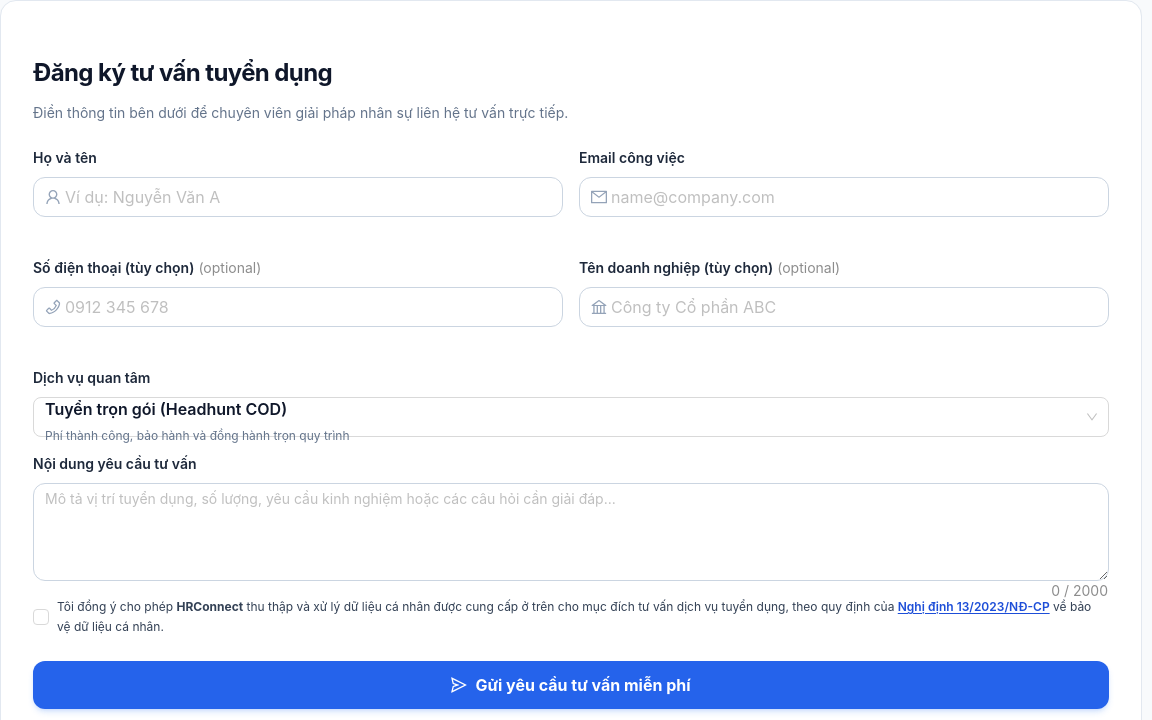
Scenario: ContactConsultationForm › submits form successfully and displays receipt when valid
The image size is (1152, 720).
# Fill form
Type "Nguyễn Văn A" into the field with placeholder "Ví dụ: Nguyễn Văn A" at (308, 197), box [65, 185, 551, 209]
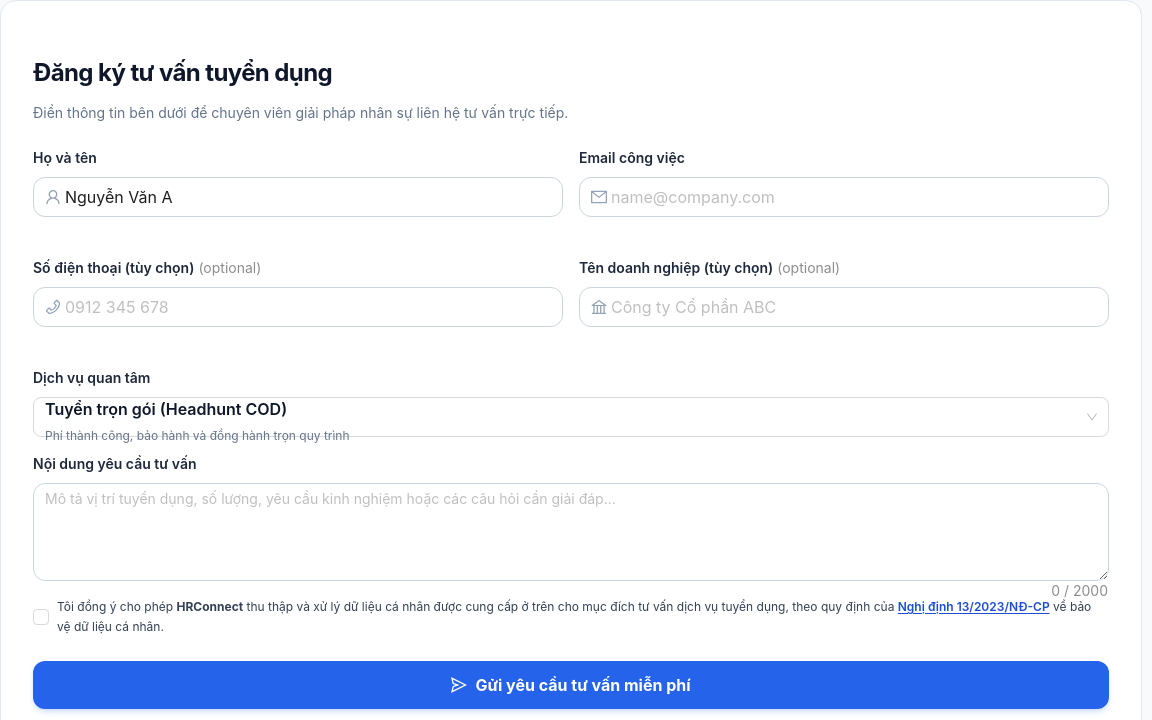
Type "vana@example.com" into the field with placeholder "name@company.com" at (854, 197), box [611, 185, 1097, 209]
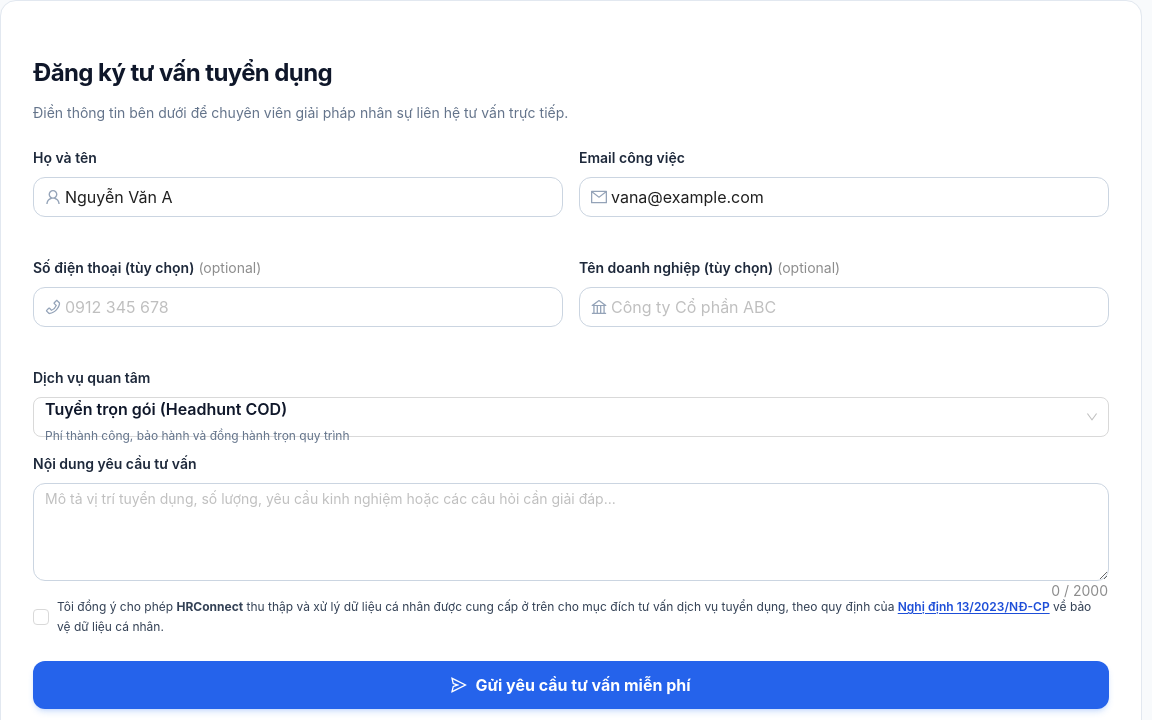
Replace the text in the text box with placeholder "Mô tả vị trí tuyển dụng" with "Cần tư vấn tuyển dụng 3 Senior React Dev trọn gói." at (571, 532), box [34, 484, 1108, 580]
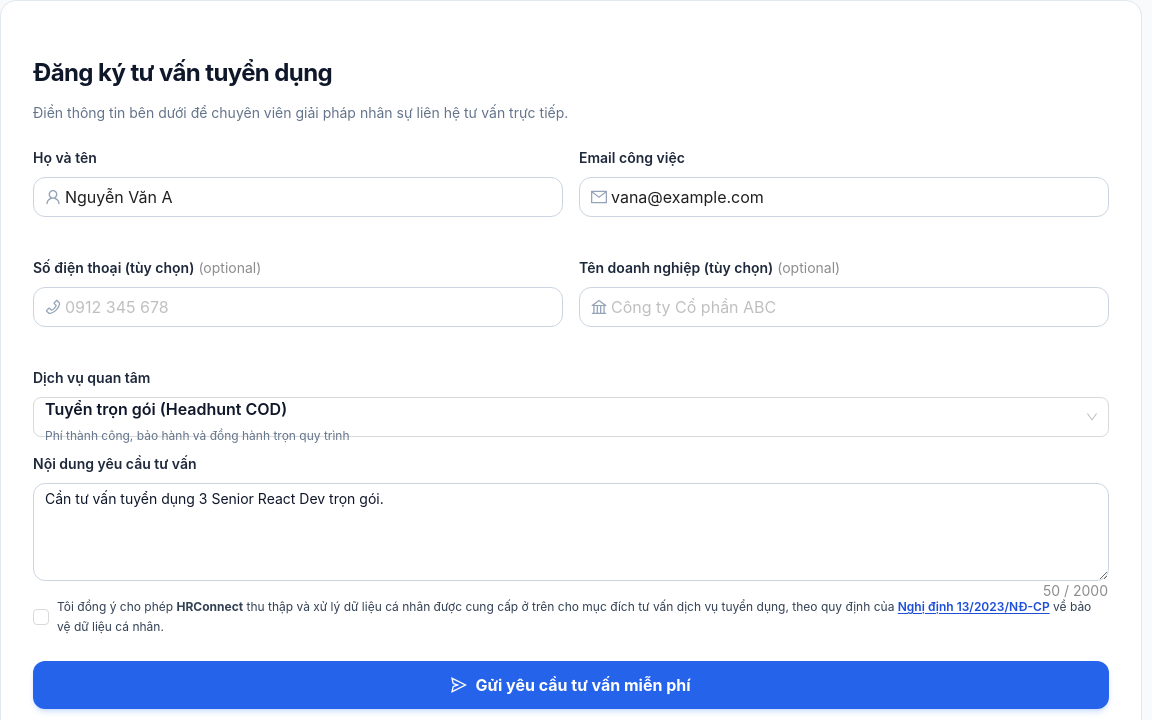
# Tick consent checkbox
Click the checkbox at (571, 617), box [33, 597, 1109, 637]
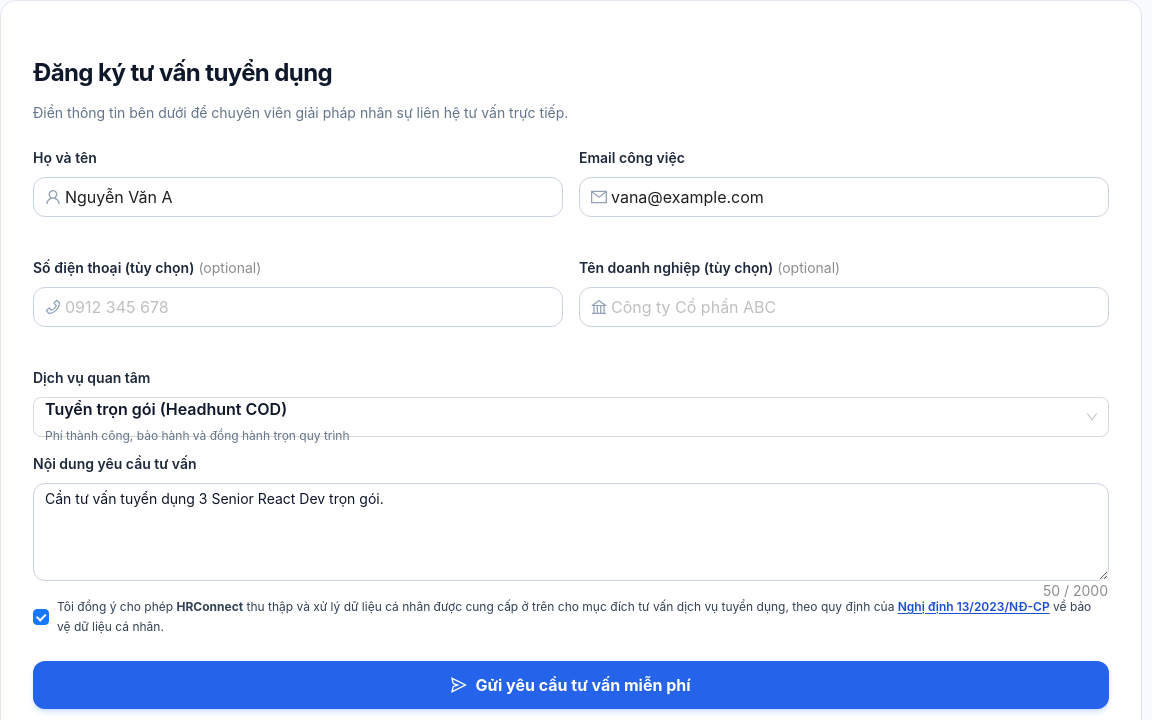
Click the button "Gửi yêu cầu tư vấn miễn phí" at (571, 685), box [33, 661, 1109, 709]
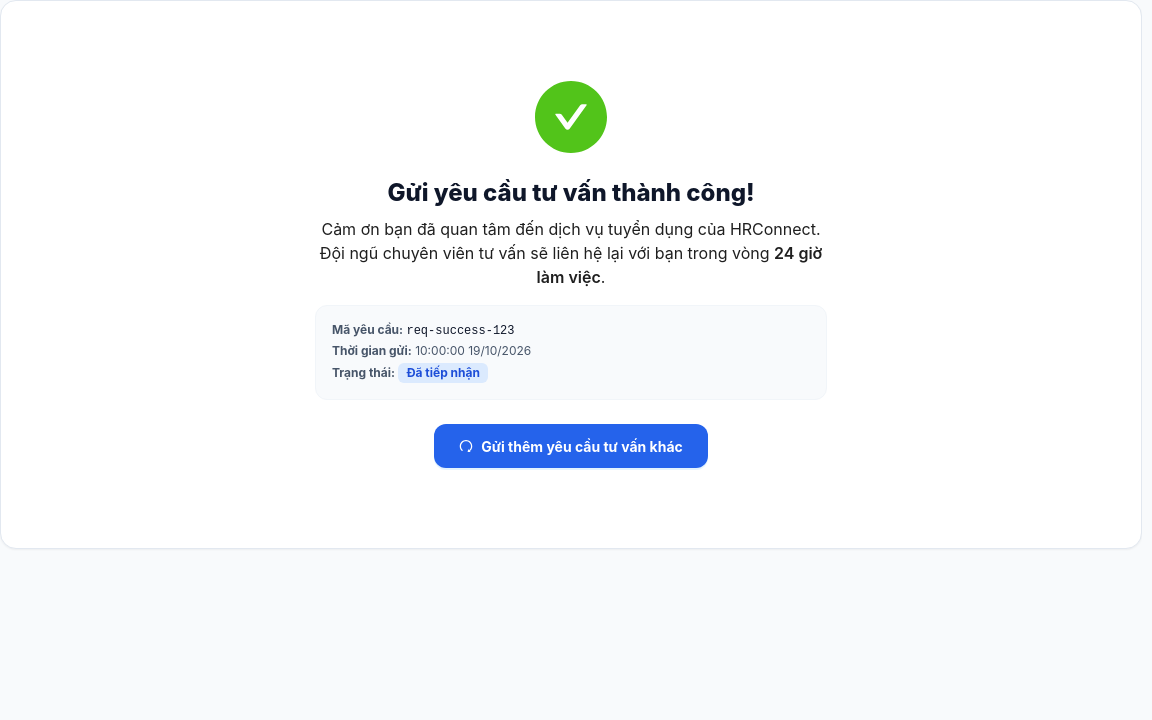
Result: the text "Gửi yêu cầu tư vấn thành công!" is shown at [387, 178, 755, 207]
Result: the text "req-success-123" is shown at [406, 324, 514, 338]
